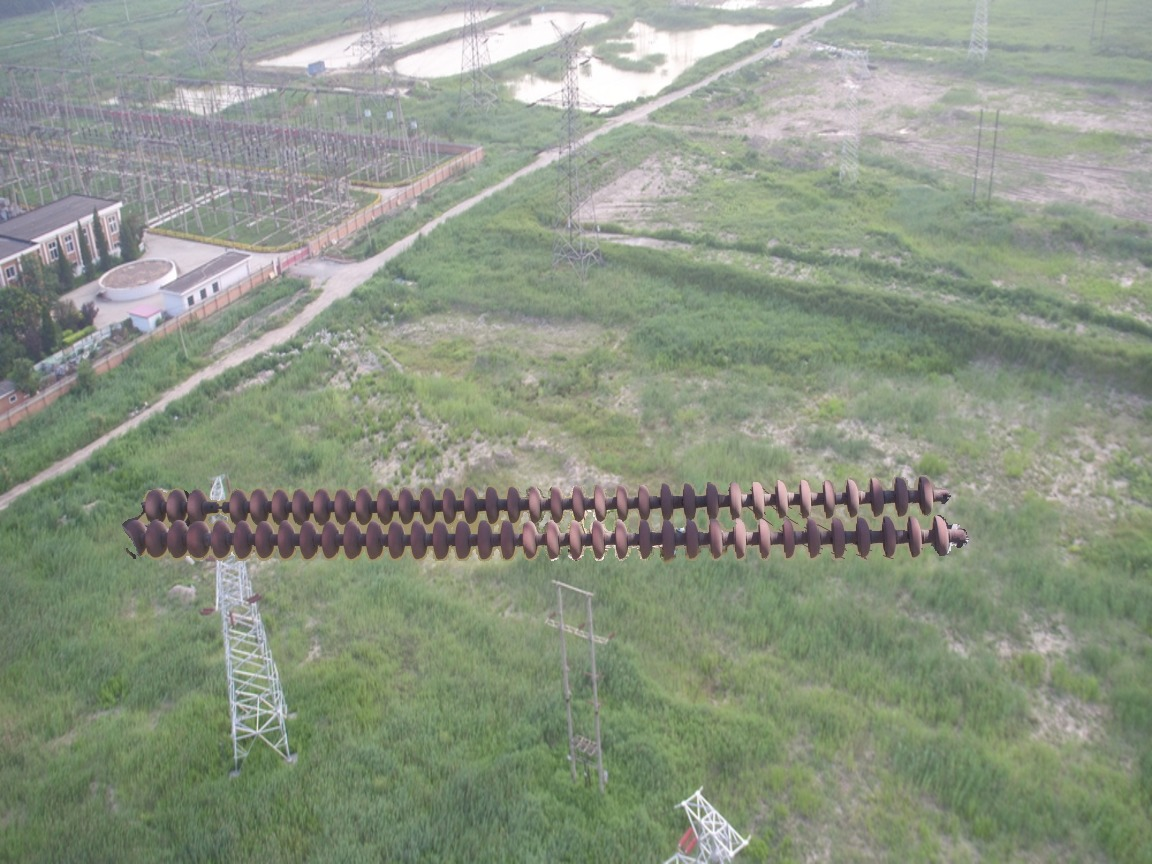defect: (181, 481, 250, 527)
